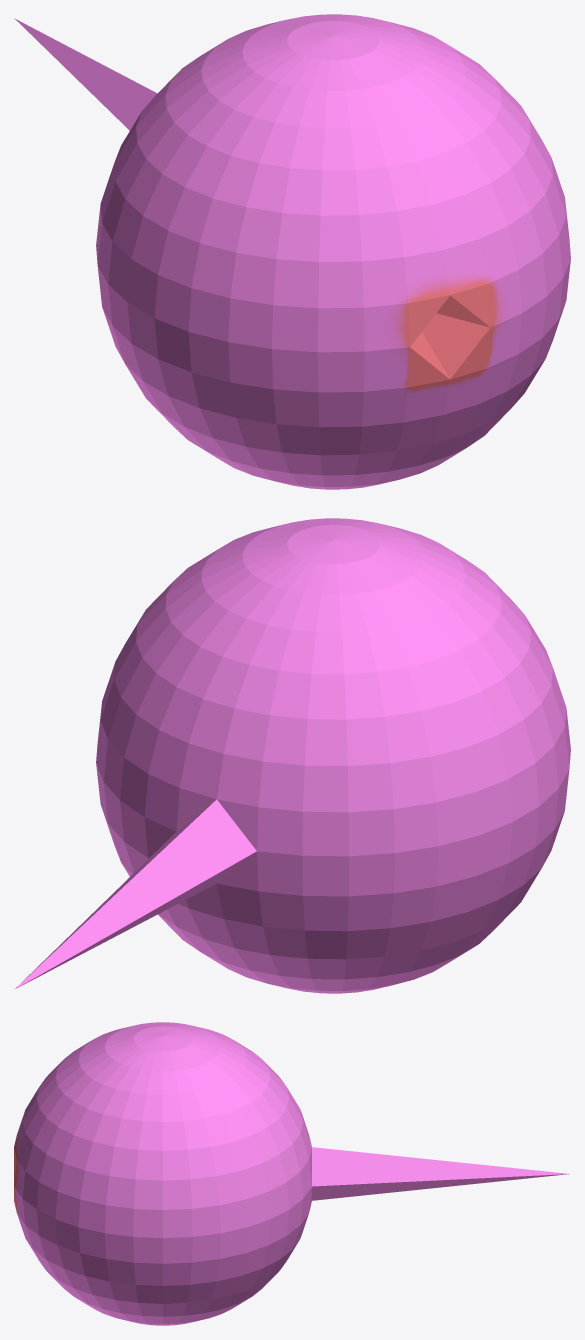
File: Enemy.obj
3 views of the same model, one above another, from view 1: azimuth 30°, elevation 25°; view 2: azimuth 150°, elevation 25°; view 3: azimuth 270°, elevation 25° (orthographic). The views are drawn at different scales.
Visible parts, largest first — view 1: 球; view 2: 球; view 3: 球.
Boxes of the visible parts, left/top/right/bottom form: 球: left=14, top=14, right=570, bottom=489; 球: left=14, top=518, right=570, bottom=993; 球: left=14, top=1022, right=568, bottom=1325.
Size of the model in its own units: 2 by 2 by 3.67.
1 material, 1 textured.
